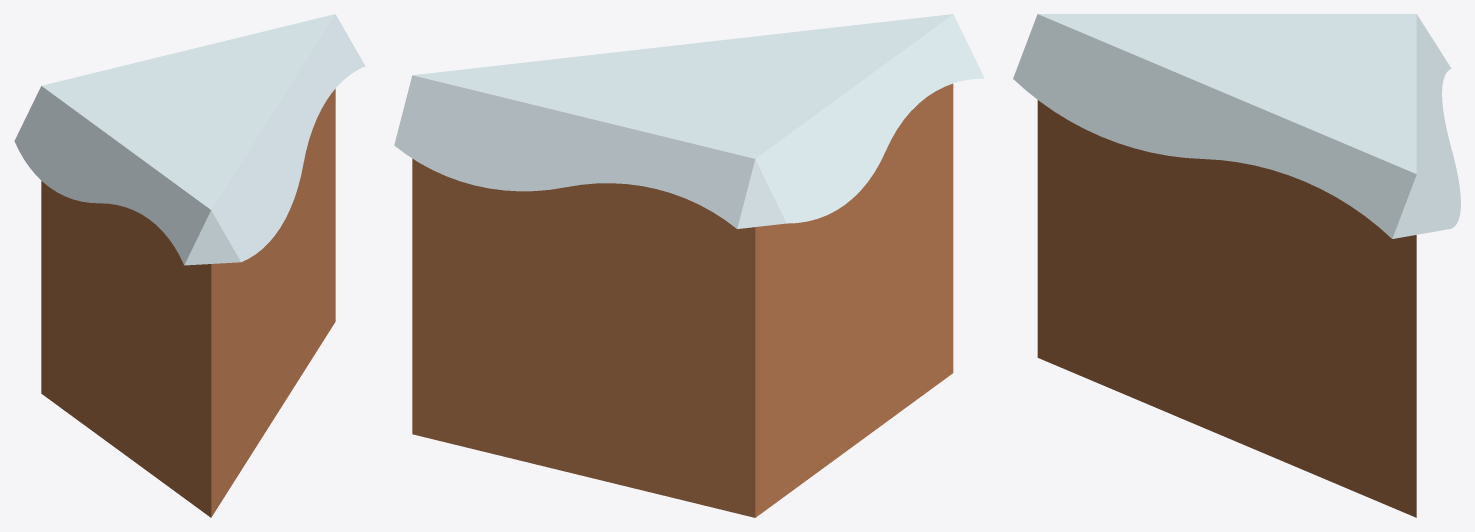
Rendered from blockSnowCornerLarge.dae.
The picture shows the model from 3 angles, left to right: view 1: azimuth 30°, elevation 25°; view 2: azimuth 150°, elevation 25°; view 3: azimuth 270°, elevation 25°; orthographic projection. The views are drawn at different scales.
Visible parts, largest first — view 1: blockSnowCornerLarge; view 2: blockSnowCornerLarge; view 3: blockSnowCornerLarge.
Boxes of the visible parts, bbox=[...] form: blockSnowCornerLarge: bbox=[14, 14, 365, 517]; blockSnowCornerLarge: bbox=[394, 14, 984, 517]; blockSnowCornerLarge: bbox=[1013, 14, 1460, 517].
Bounding box in the file's own units: 1.18 × 1 × 1.18.
